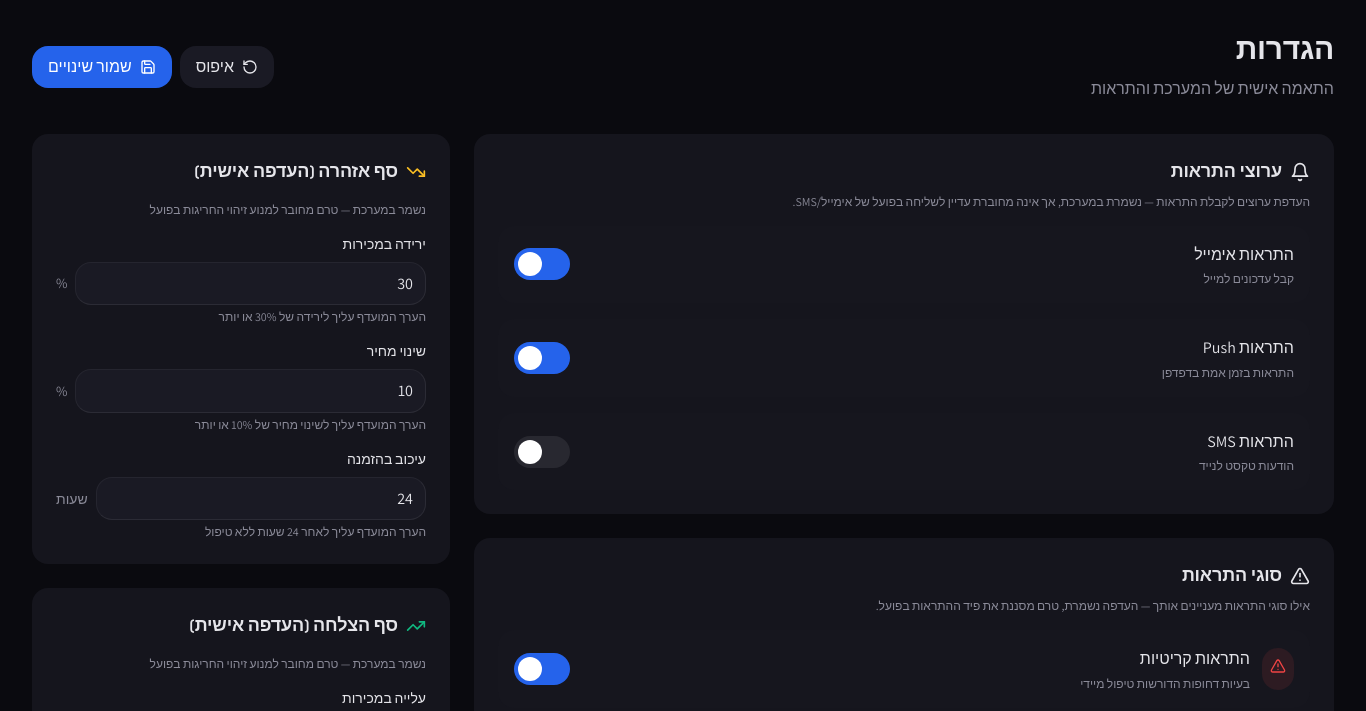
Test: AdminSettingsPage — real persistence › the returned backend state becomes the displayed state after save
This screenshot has width=1366, height=711.
Expected: the number field showing "24" below "עיכוב בהזמנה" is shown, [96,477,426,520]
Click the button "שמור שינויים".
click(102, 67)  # box [32,46,172,88]
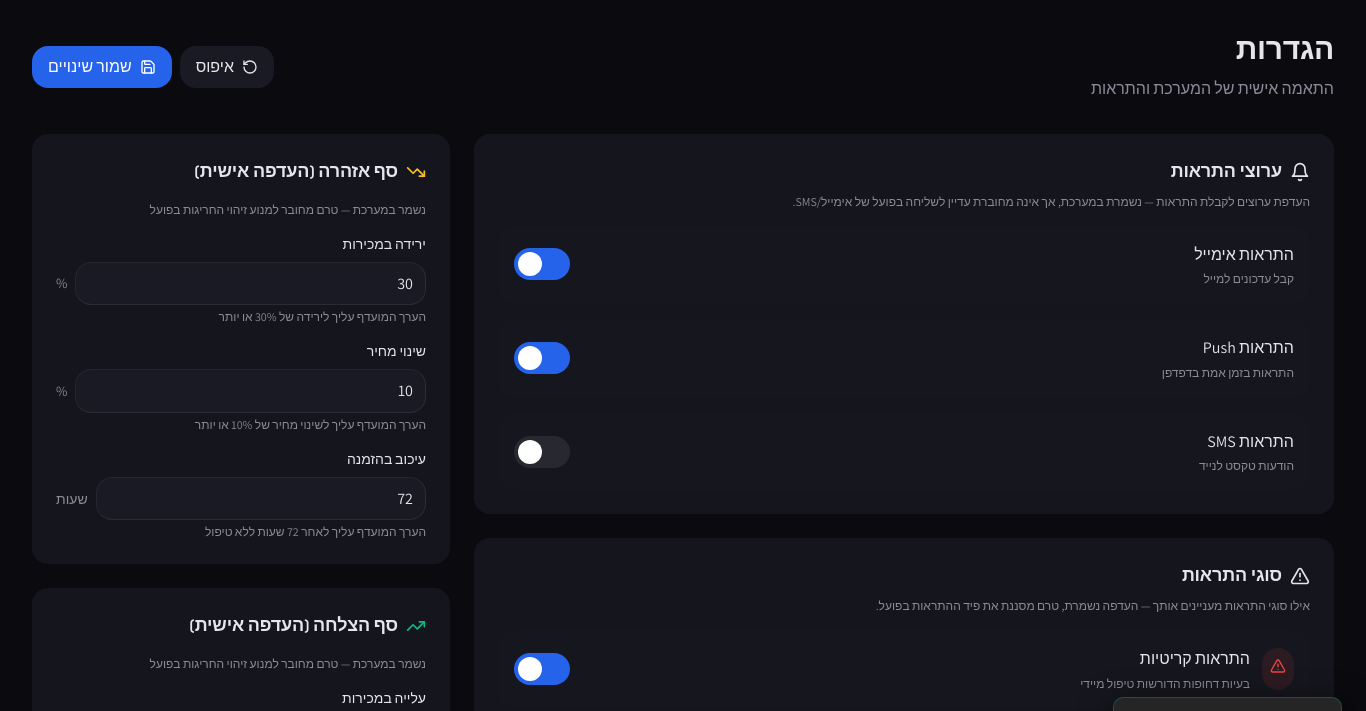
Expected: the number field showing "72" below "עיכוב בהזמנה" is shown, [96,477,426,520]
